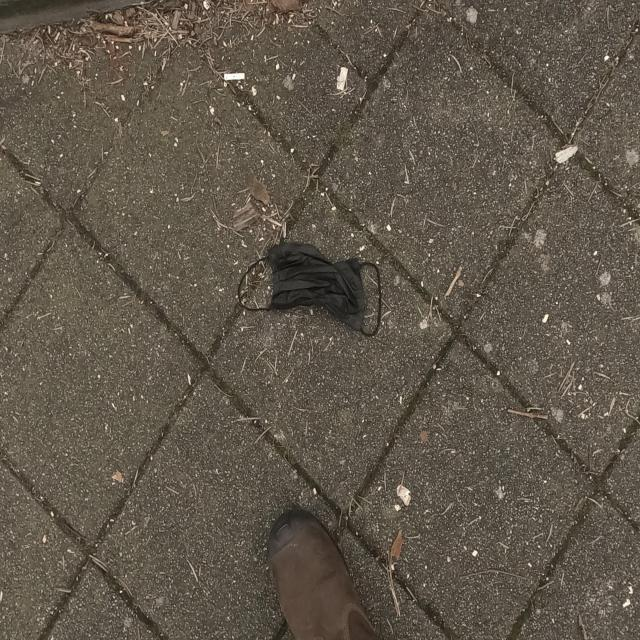Mask: (231, 242, 391, 336)
